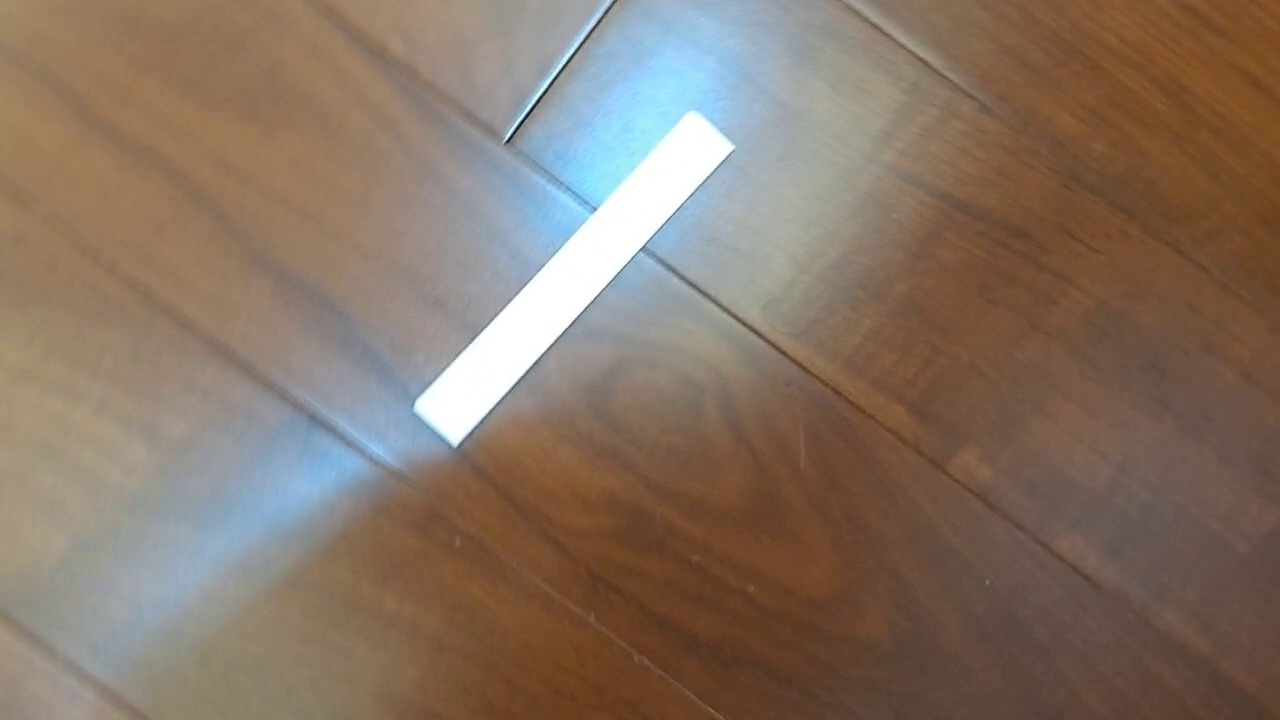ruler: (411, 106, 740, 451)
